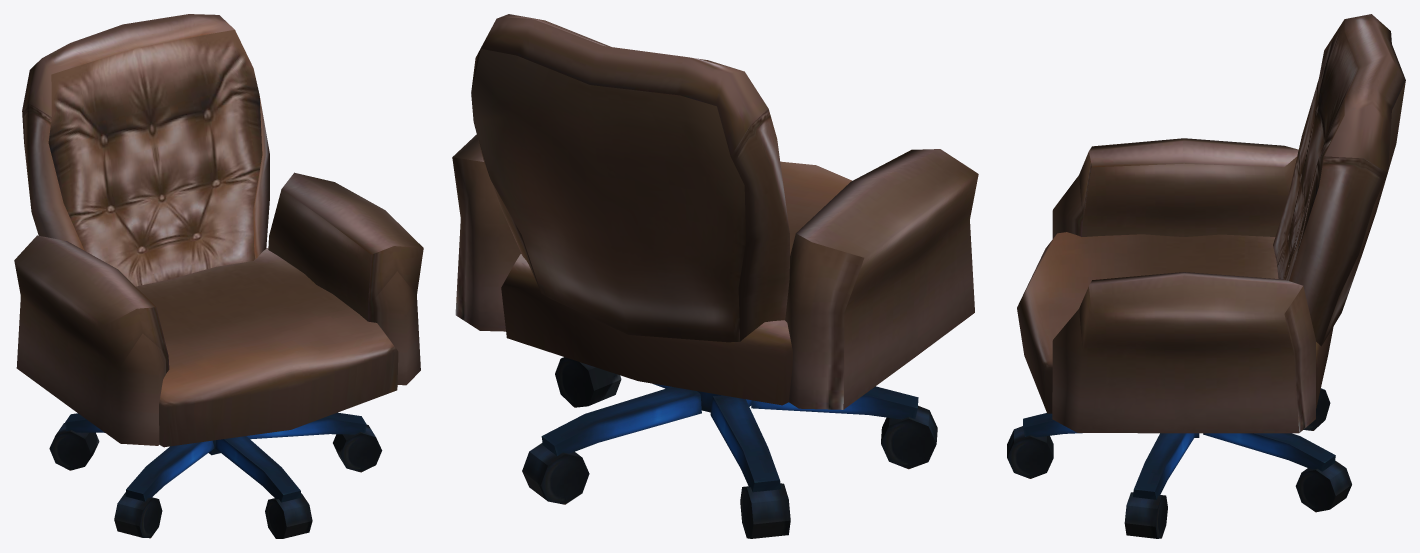
File: chair4.fbx
The picture shows the model from 3 angles, left to right: view 1: azimuth 30°, elevation 25°; view 2: azimuth 150°, elevation 25°; view 3: azimuth 270°, elevation 25°; orthographic projection. The views are drawn at different scales.
Parts seen in each view (by area): view 1: chair4; view 2: chair4; view 3: chair4.
Part boxes in pixels (left/top/right/bottom): chair4: left=14, top=14, right=423, bottom=538; chair4: left=452, top=14, right=978, bottom=538; chair4: left=1007, top=14, right=1405, bottom=538.
Size of the model in its own units: 8.28 by 9.4 by 8.1.
